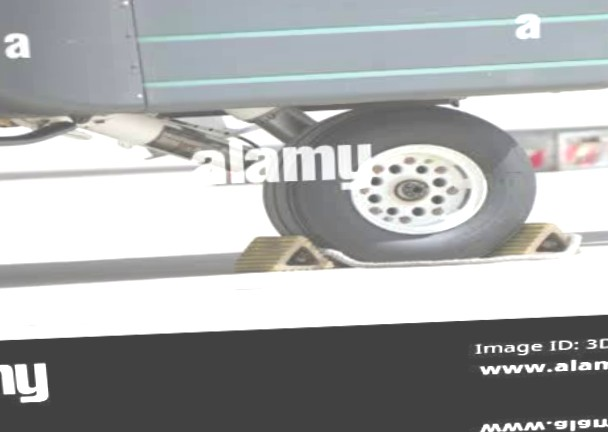chock: (482, 219, 587, 263), (231, 232, 335, 273)
wheel: (258, 96, 544, 266)
